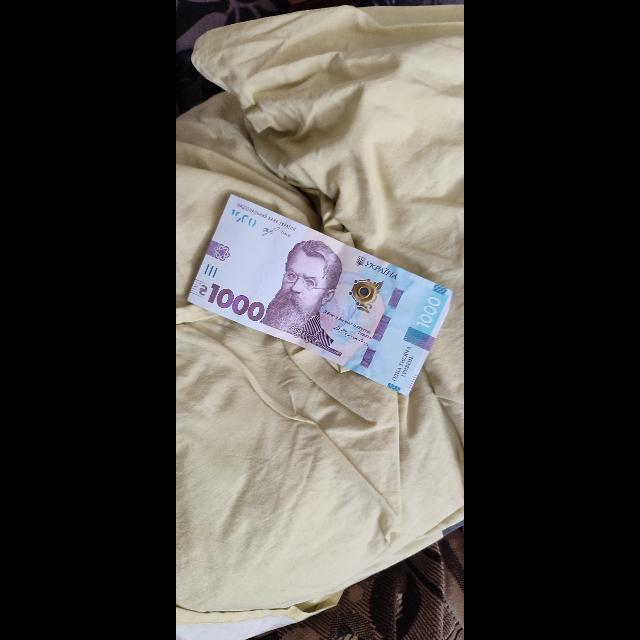1000uah: (188, 192, 453, 397)
